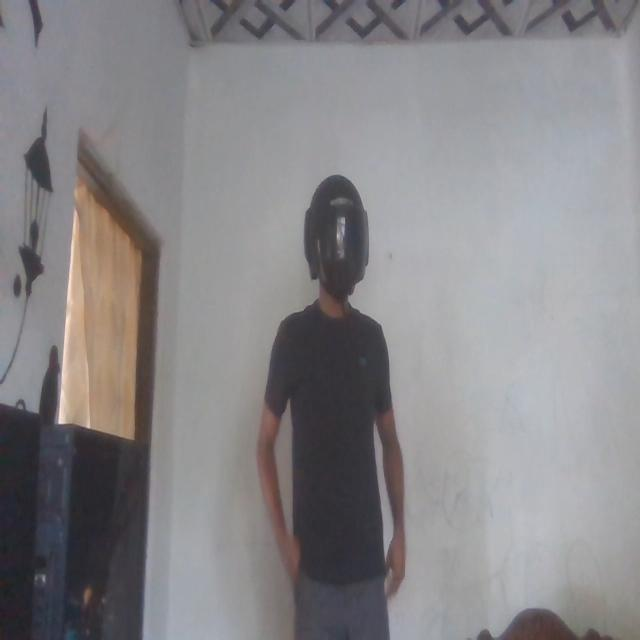Helmet_Wearer: (298, 166, 368, 318)
Person: (265, 178, 407, 640)
